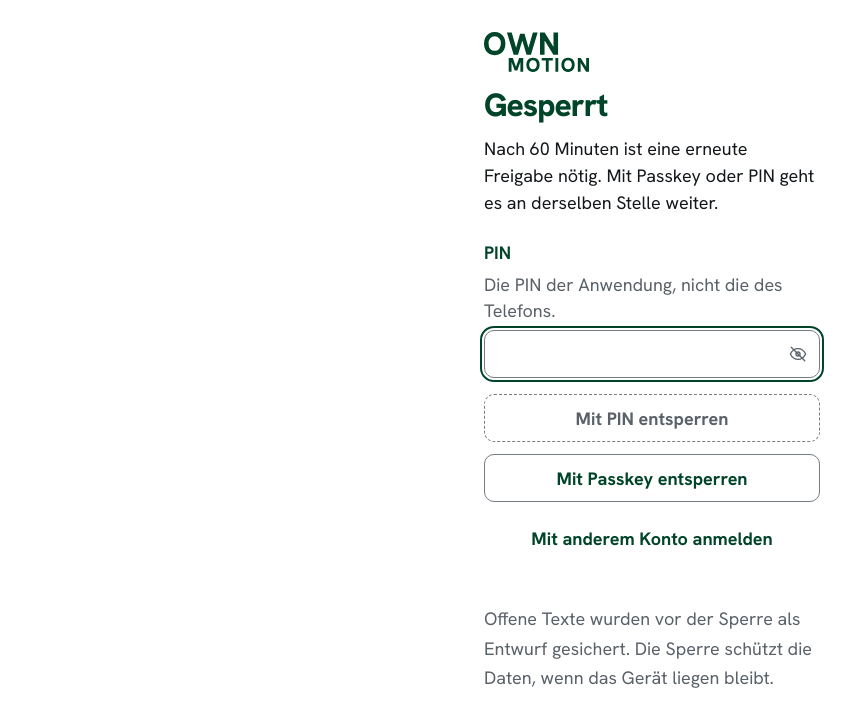
Test: Sperrseite: Passkey von selbst, App-PIN dahinter (ADR-025 Punkt 11 Fassung 3) › kehrt nach der Freigabe per Passkey zurück, mit frischem Inhalt
Click the button "Mit Passkey entsperren": (652, 478) [484,454,820,502]
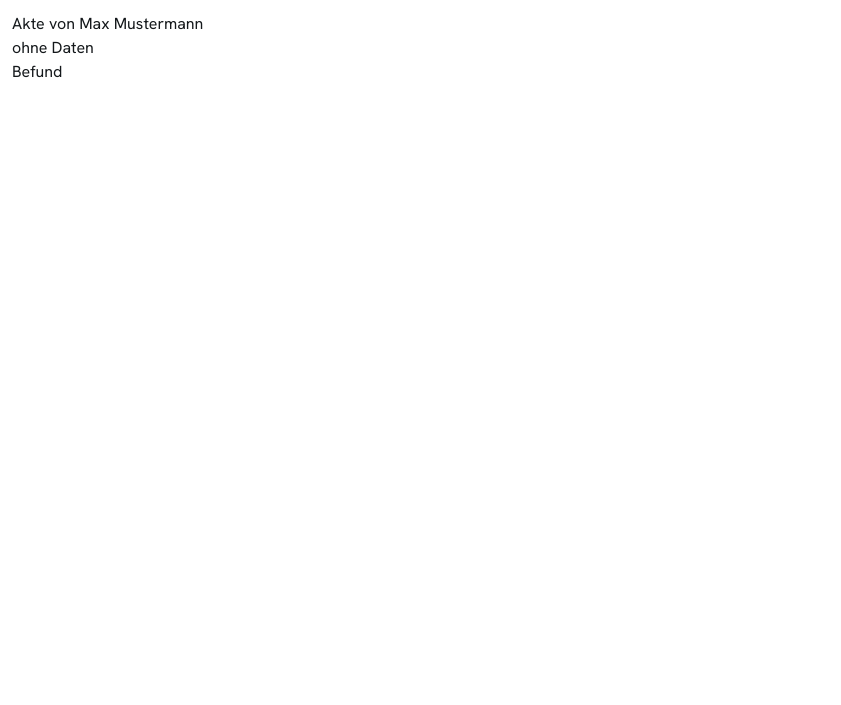
Expected: the text "Akte von Max Mustermann" is shown, [12,13,203,34]
Expected: the text "ohne Daten" is shown, [12,37,94,58]
